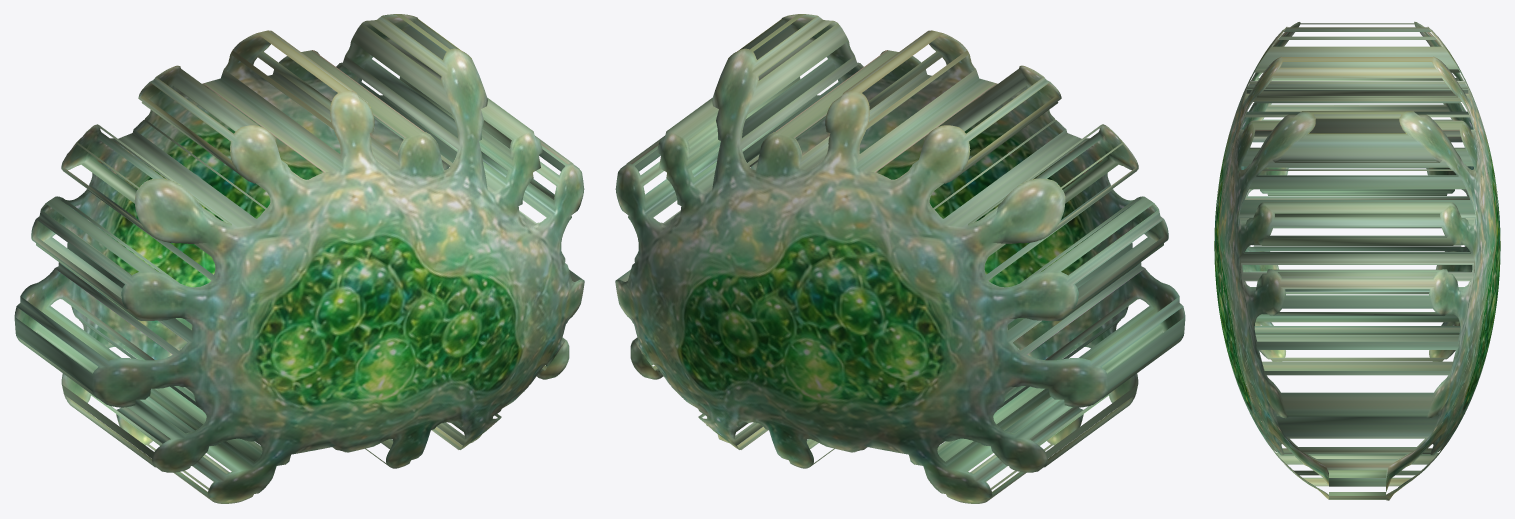
3 renders of one model, left to right at view 1: azimuth 30°, elevation 25°; view 2: azimuth 150°, elevation 25°; view 3: azimuth 270°, elevation 25°, orthographic. The views are drawn at different scales.
Visible parts, largest first — view 1: cells:4; view 2: cells:4; view 3: cells:4.
Boxes of the visible parts, left/top/right/bottom form: cells:4: left=14, top=14, right=584, bottom=503; cells:4: left=615, top=14, right=1185, bottom=503; cells:4: left=1214, top=21, right=1500, bottom=500.
Bounding box in the file's own units: 1.22 × 0.9474 × 0.66.
Materials: 1 (1 with a texture image).
